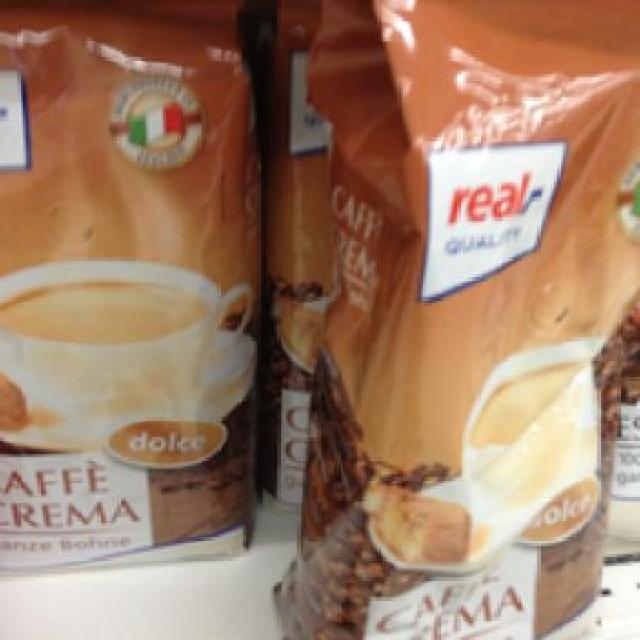Coffee: (272, 0, 634, 637), (0, 0, 261, 575)
